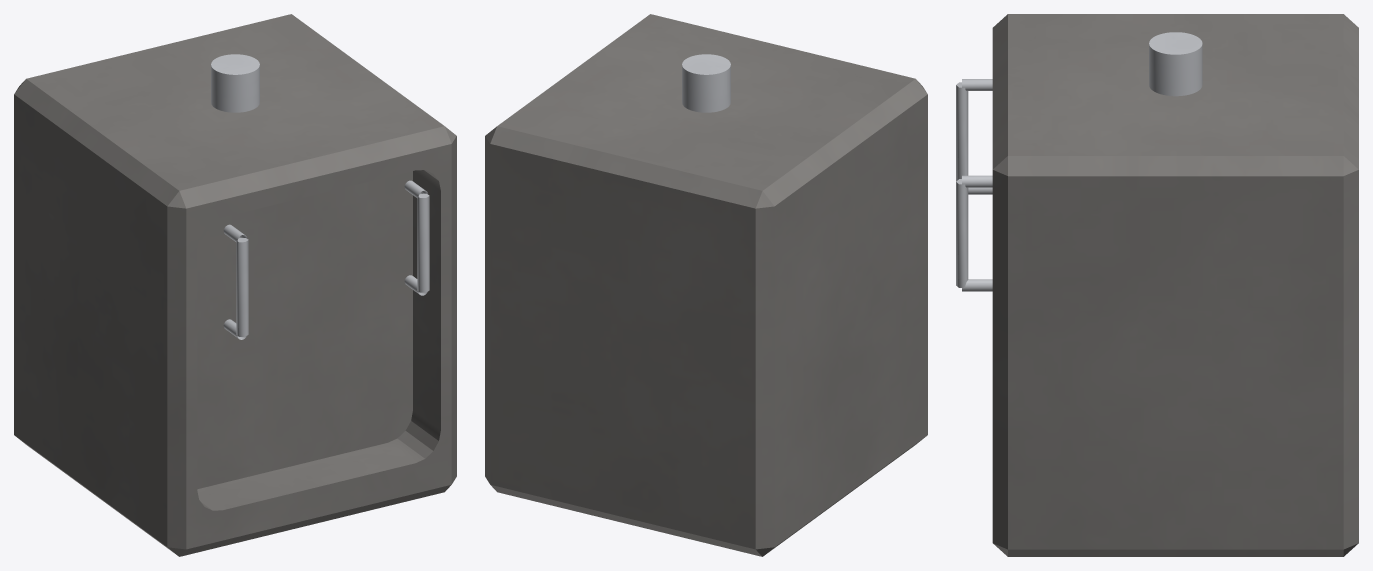
The model's file is ax_power_11_battery_module_small.glb.
The picture shows the model from 3 angles, left to right: view 1: azimuth 30°, elevation 25°; view 2: azimuth 150°, elevation 25°; view 3: azimuth 270°, elevation 25°; orthographic projection. The views are drawn at different scales.
Parts seen in each view (by area): view 1: slot_housing, handles, connectors; view 2: slot_housing, connectors; view 3: slot_housing, handles, connectors.
Part boxes in pixels (<box>): slot_housing: <box>14,14,456,556</box>; handles: <box>223,180,429,339</box>; connectors: <box>211,54,259,112</box>; slot_housing: <box>485,14,927,556</box>; connectors: <box>682,54,730,112</box>; slot_housing: <box>992,14,1358,556</box>; handles: <box>956,79,992,291</box>; connectors: <box>1149,32,1202,96</box>.
Bounding box in the file's own units: 0.48 × 0.64 × 0.528.
Materials: 2 (2 with a texture image).
